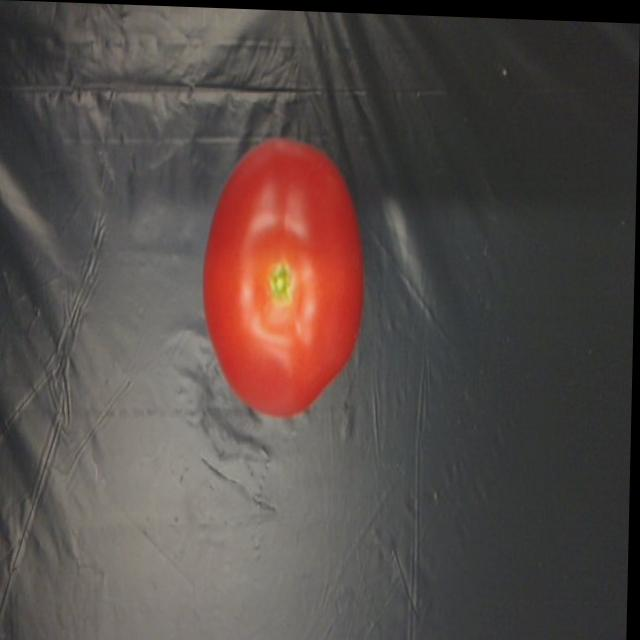kirmizi: (187, 127, 378, 422)
